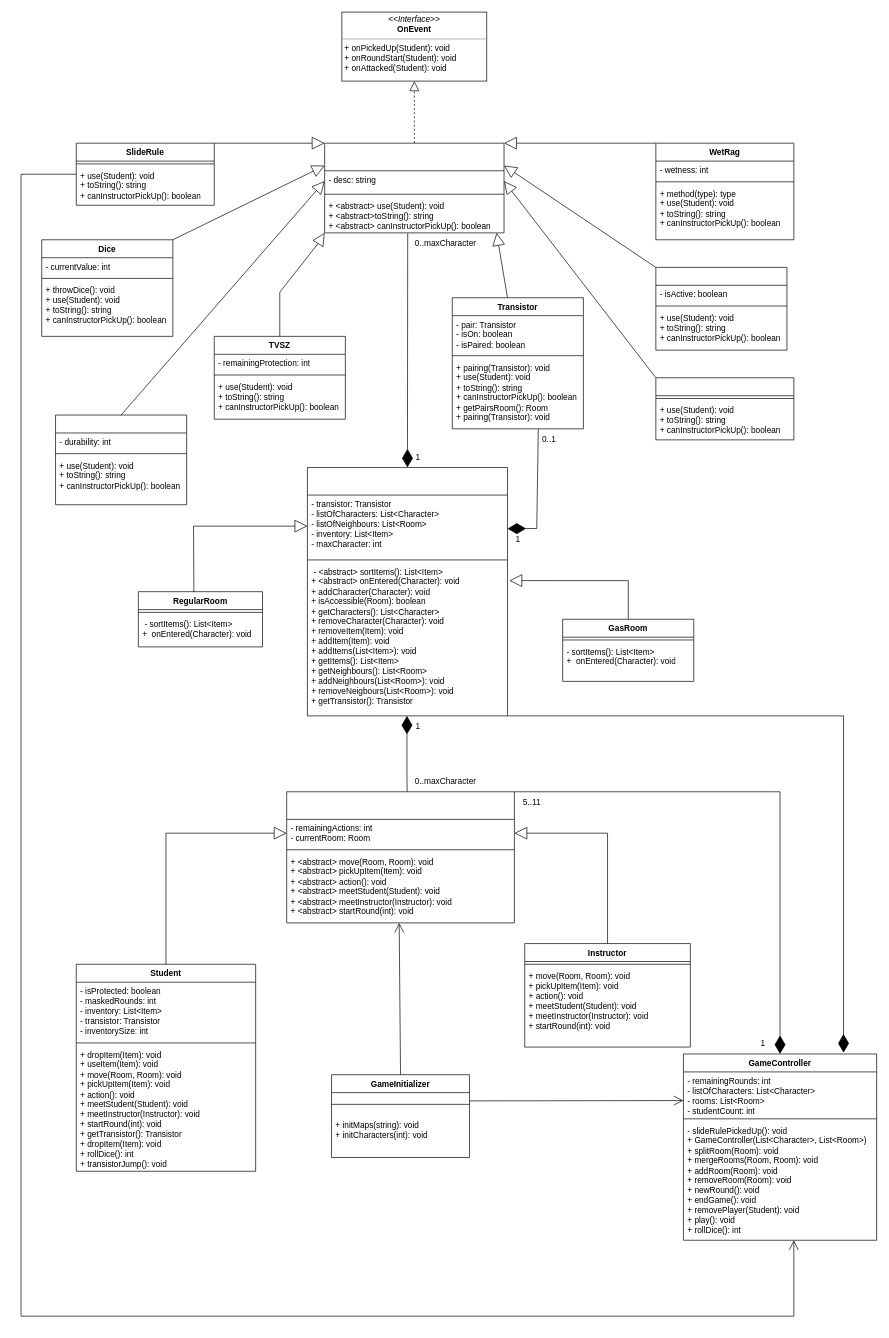
Image size: 889x1338. Some labels were removed from this diagram. The shapes that lost their labels are listed below. From the top down, each one's box as (x1, y1, x2, y2) in pixels, then its label:
(324, 142, 504, 233): «abstract» Item
(655, 267, 787, 350): GlassOfBeer
(655, 377, 794, 440): Camambert
(55, 414, 187, 505): FFP2
(307, 467, 507, 716): «abstract» Room
(286, 791, 514, 923): «abstract» Character
